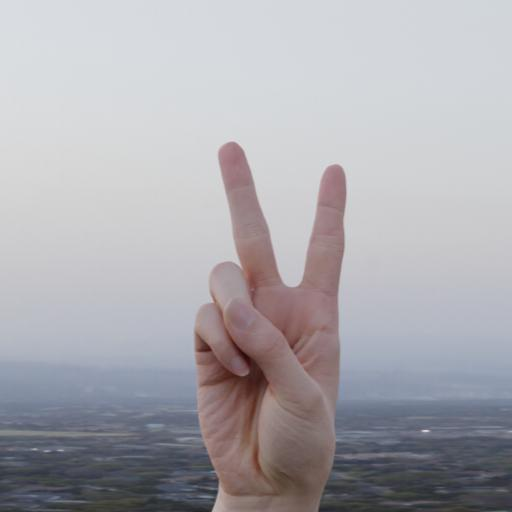V: (194, 139, 348, 493)
